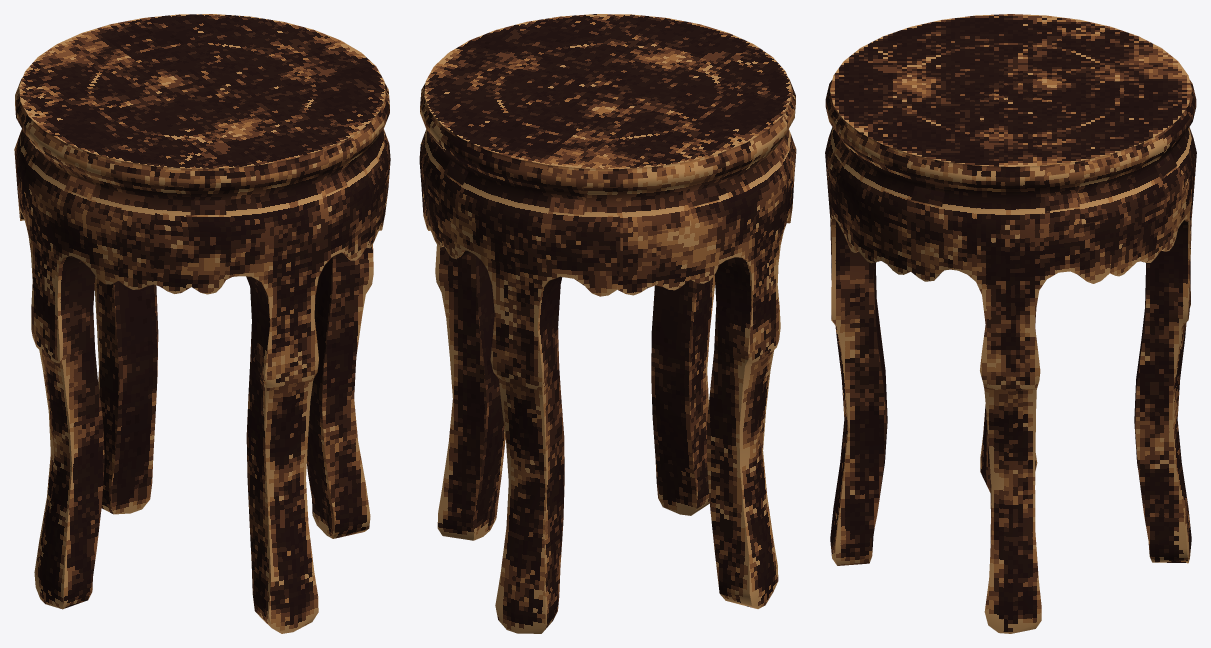
Rendered from WoodenTable_02.glb.
3 views of the same model, side by side, from view 1: azimuth 30°, elevation 25°; view 2: azimuth 150°, elevation 25°; view 3: azimuth 270°, elevation 25° (orthographic).
Visible parts, largest first — view 1: body; view 2: body; view 3: body.
Part boxes in pixels (box(x1,y1,x2,y2)): body: box(14, 14, 390, 633); body: box(419, 14, 796, 633); body: box(825, 14, 1196, 633).
Bounding box in the file's own units: 0.3007 × 0.4177 × 0.3007.
1 material, 1 textured.
